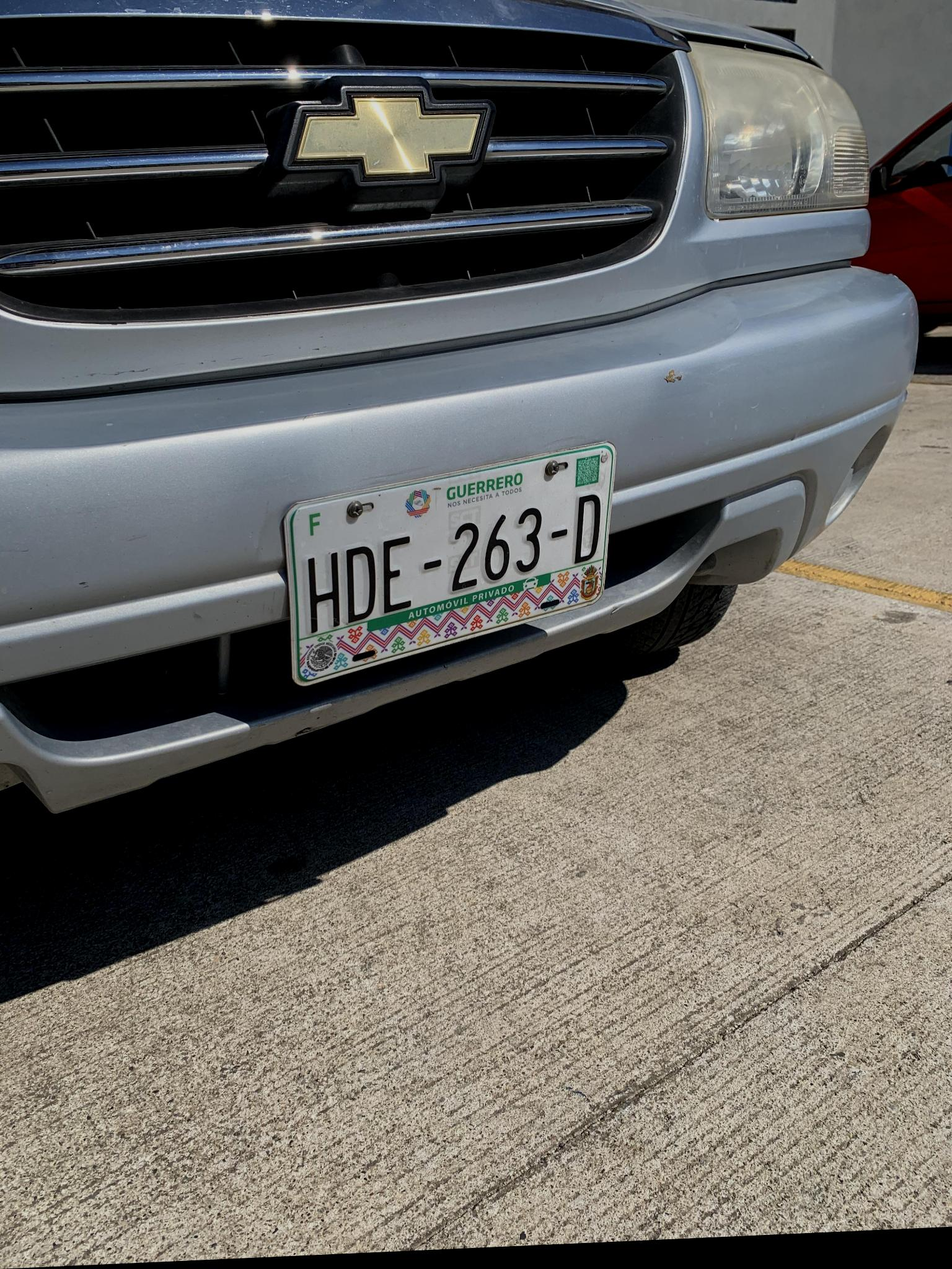License_Plate: (245, 438, 633, 691)
